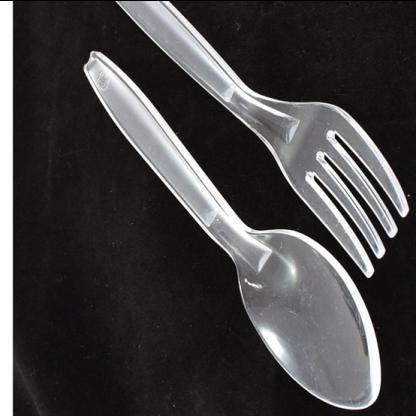Others: (84, 1, 416, 411)
